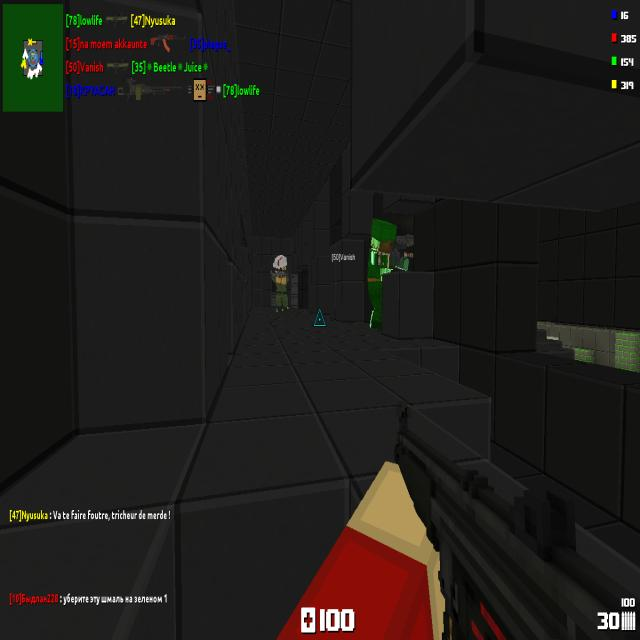enemy: (367, 218, 410, 328), (270, 253, 290, 312)
